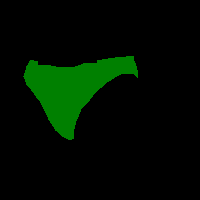mutande: (23, 55, 138, 140)
